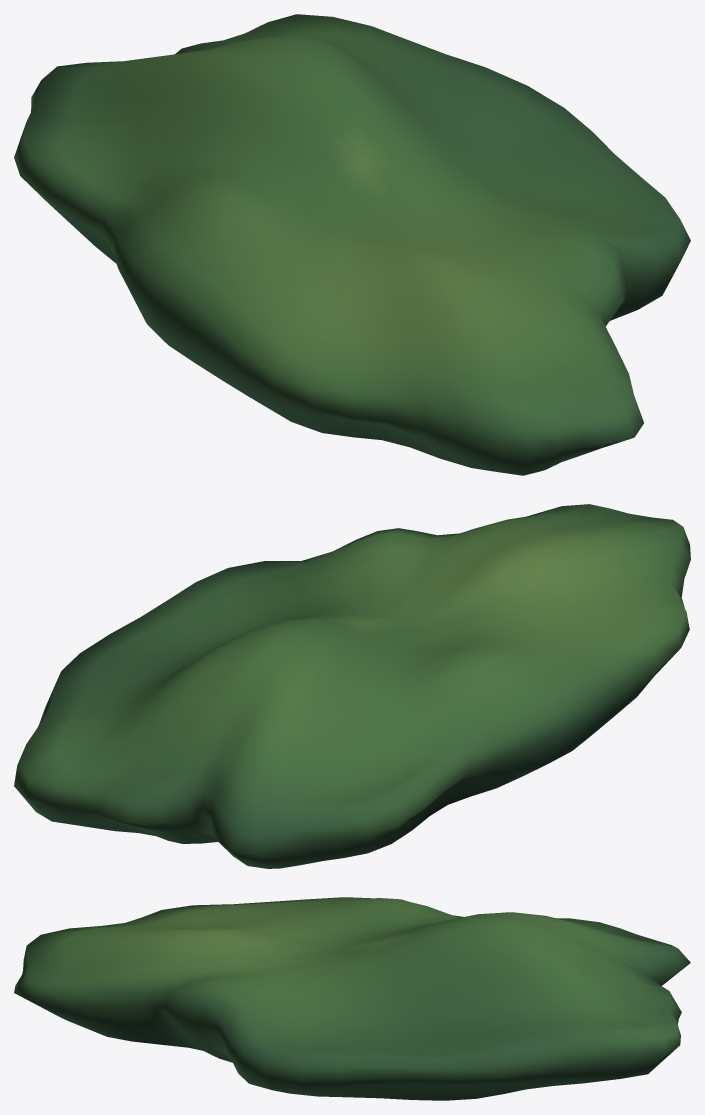
Rendered from ForestFinger_A.fbx.
3 renders of one model, top to bottom at view 1: azimuth 30°, elevation 25°; view 2: azimuth 150°, elevation 25°; view 3: azimuth 270°, elevation 25°, orthographic. The views are drawn at different scales.
Parts seen in each view (by area): view 1: ForestFinger_A; view 2: ForestFinger_A; view 3: ForestFinger_A.
Part boxes in pixels (box(x1,y1,x2,y2)): ForestFinger_A: box(14, 14, 690, 475); ForestFinger_A: box(14, 504, 690, 868); ForestFinger_A: box(14, 897, 690, 1100).
Size of the model in its own units: 1935 by 641 by 3390.
Materials: 1 (1 with a texture image).
